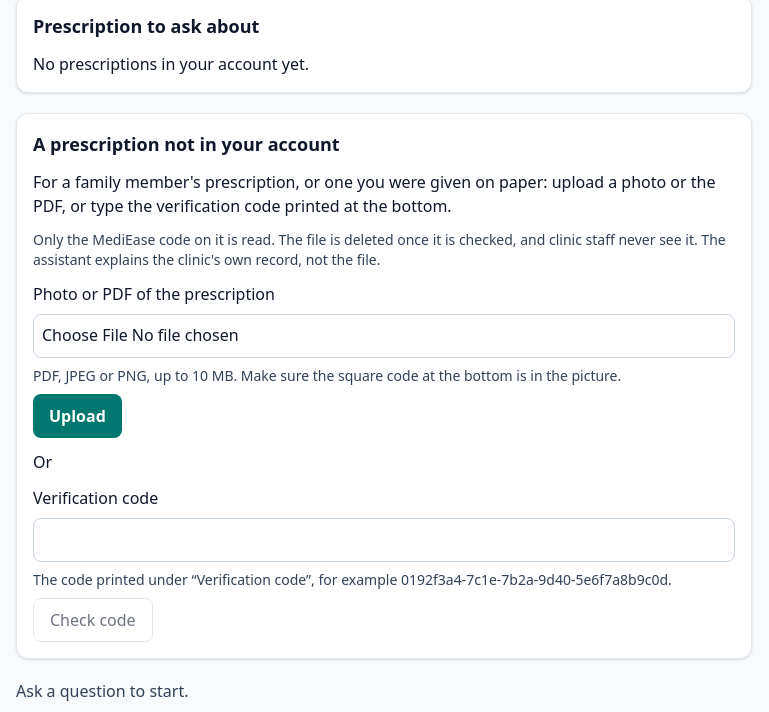
Test case: prescription uploads on the assistant page (M7b; FR-UPL-01..05) › an upload refused by the API shows its message
(page scrolled)
In the field labelled "Verification code": x=384, y=540 [33,518,735,562], type "0192f3a4-7c1e-7b2a-9d40-5e6f7a8b9c0d"
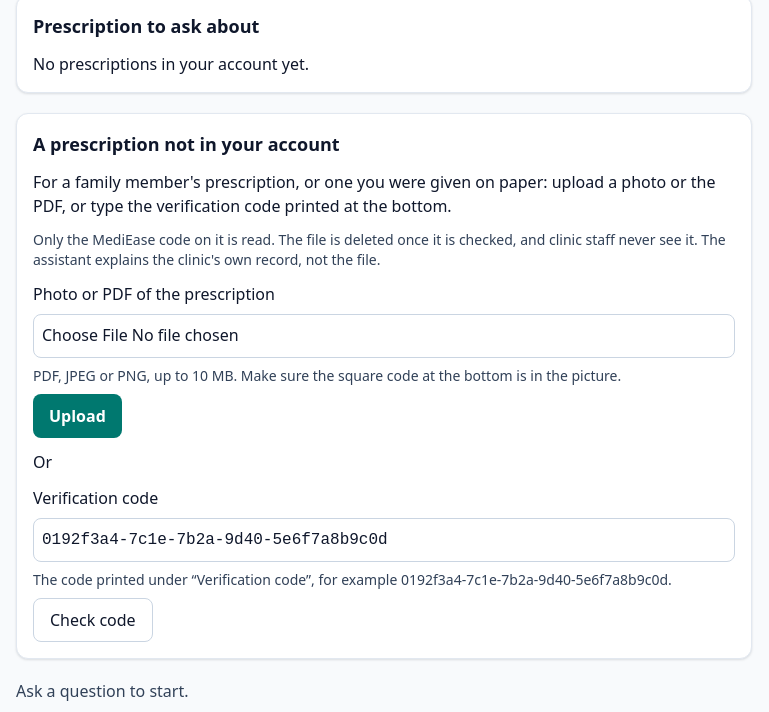
Click the button "Check code": x=93, y=620 [33,598,153,642]
(page scrolled)
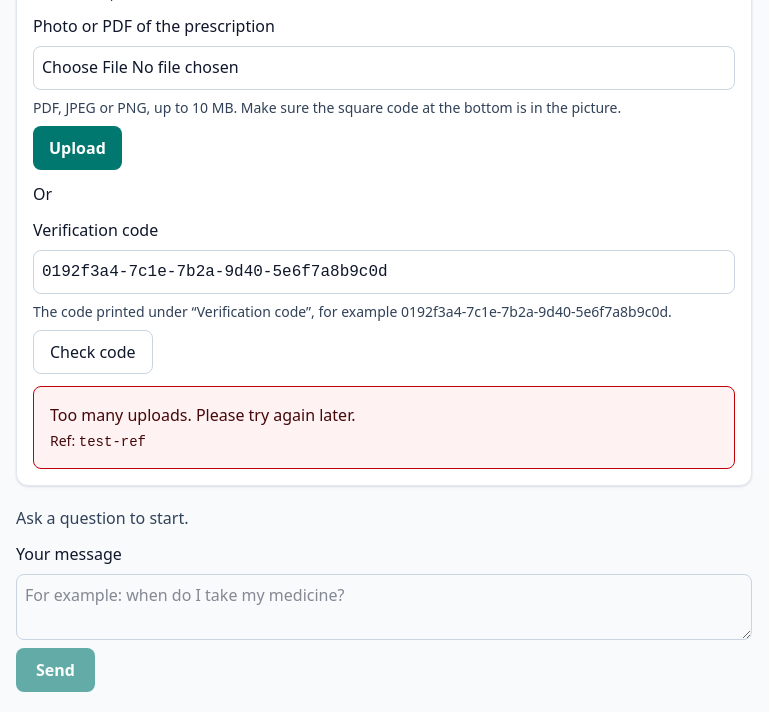
Expected: the message shows "Too many uploads. Please try again later.", [50,404,356,426]
